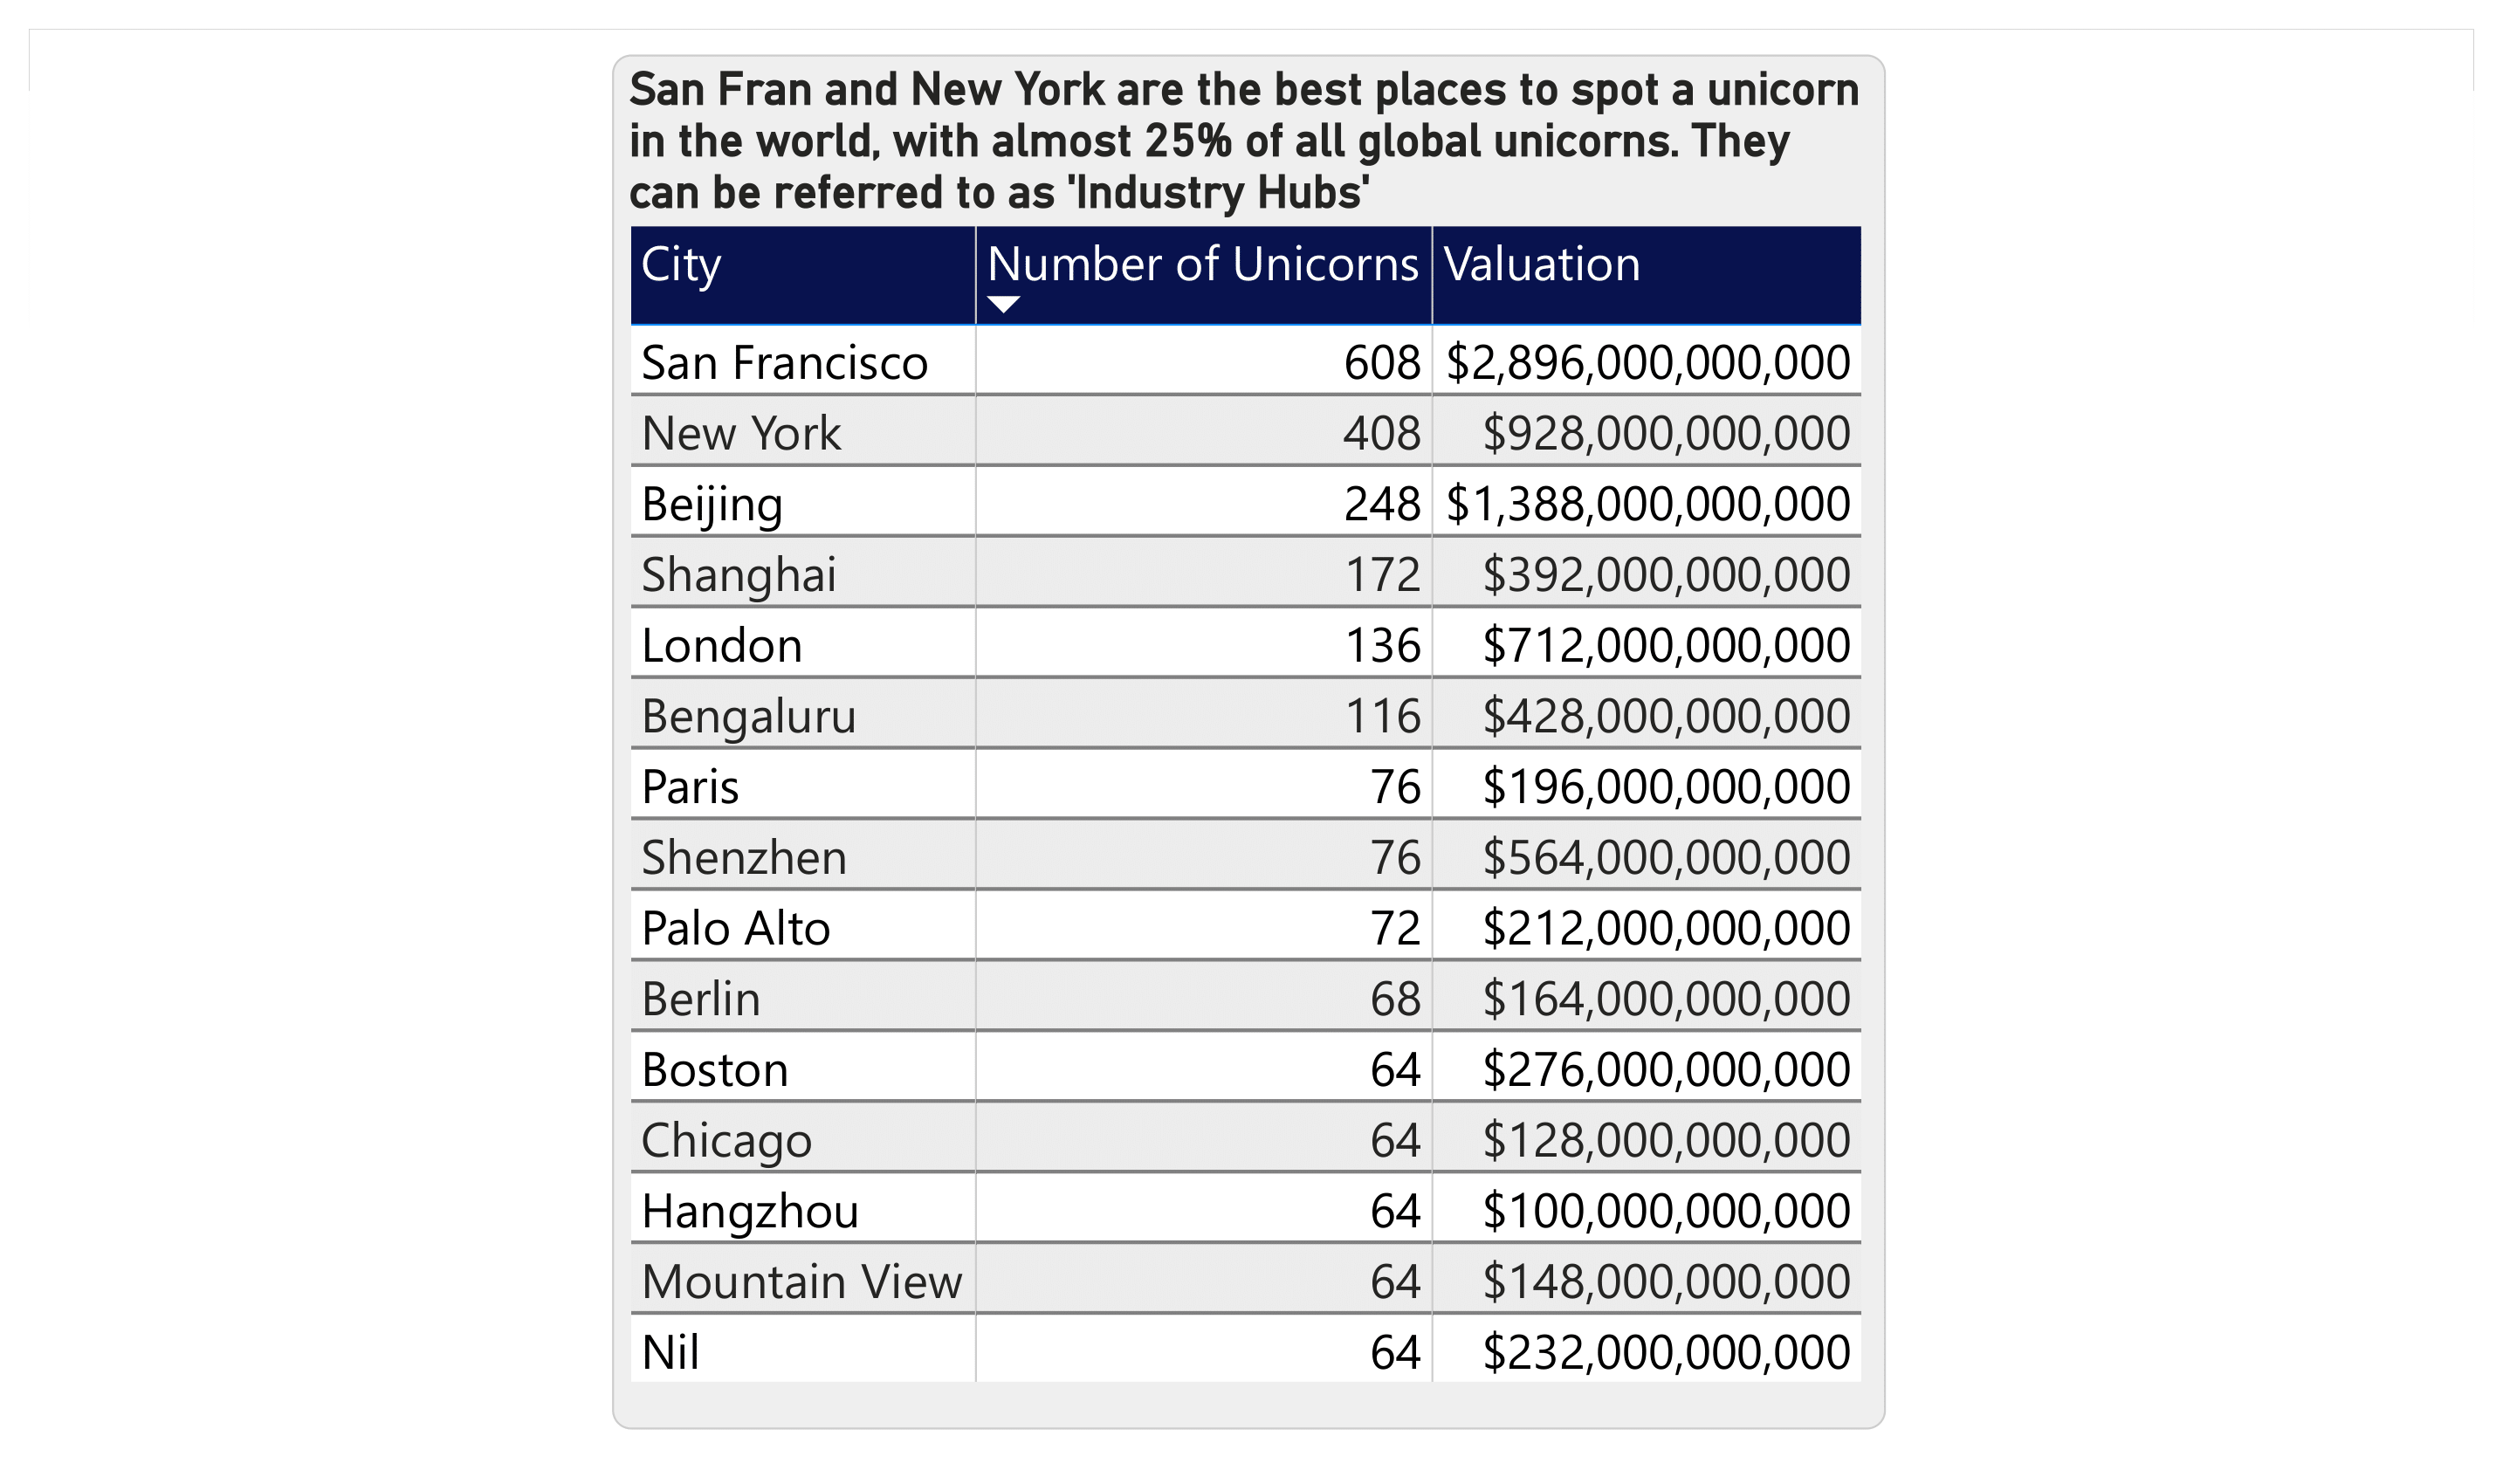

The page's visual inventory and layout, read from the dashboard file:
{"tool":"powerbi","page":{"name":"Page 7","canvas":[1280,720],"ordinal":6},"visuals":[{"type":"tableEx","title":"San Fran and New York are the best places to spot a unicorn in the world, with almost 25% of all global unicorns. They can be referred to as ''Industry Hubs''","fields":{"Values":["Unicorn_Companies.City","CountNonNull(Unicorn_Companies.City)","Sum(Unicorn_Companies.Valuation)"]},"box":[305.3,20.2,666.7,671],"z":0}]}

Visuals, with their boxes on the page's 1280x720 design canvas (x1, y1, x2, y2). These are canvas units, not pixel positions in the 2503x1484 screenshot, which may show the page scaled, cropped or inside an application window:
"San Fran and New York are the best places to spot a unicorn in the world, with almost 25% of all global unicorns. They can be referred to as ''Industry Hubs''" tableEx: 305,20,972,691
